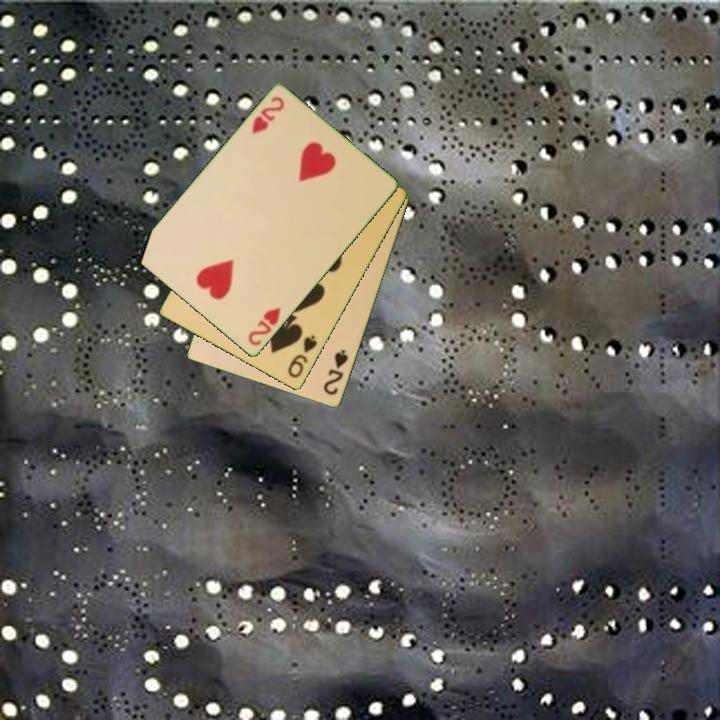2h: (244, 304, 284, 349), (248, 93, 288, 137)
2s: (320, 346, 351, 398)
9s: (284, 331, 320, 381)
